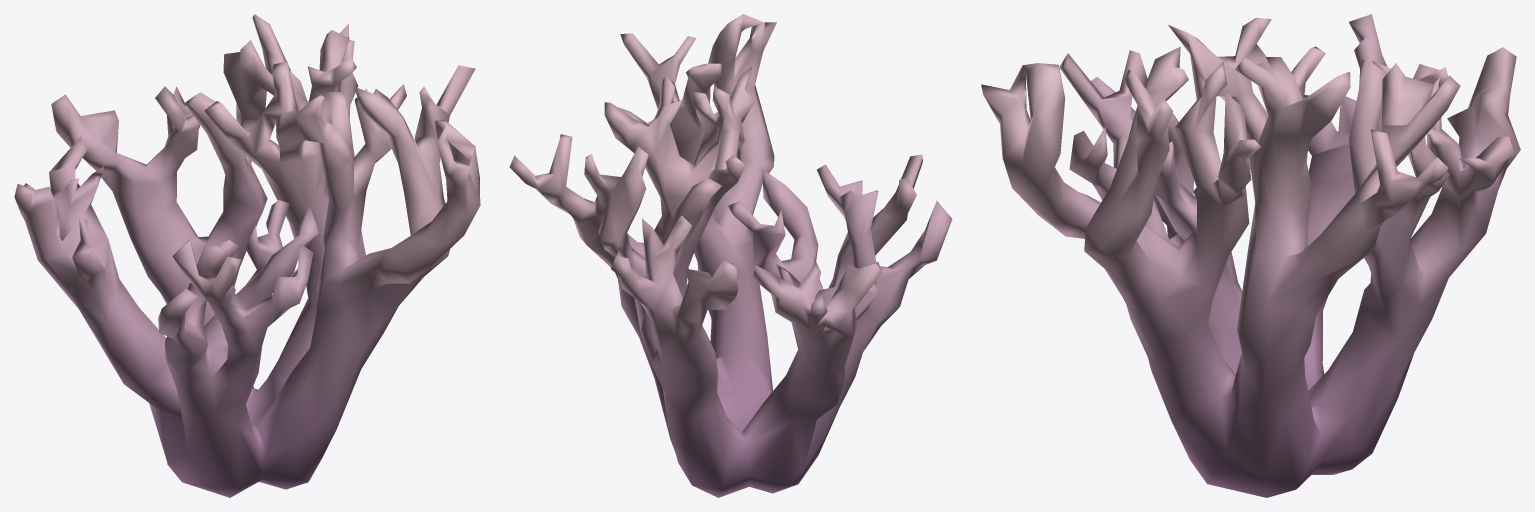
Rendered from staghorn_pink_low.glb.
The picture shows the model from 3 angles, left to right: view 1: azimuth 30°, elevation 25°; view 2: azimuth 150°, elevation 25°; view 3: azimuth 270°, elevation 25°; orthographic projection. The views are drawn at different scales.
Parts seen in each view (by area): view 1: world; view 2: world; view 3: world.
Part boxes in pixels (<box>): world: <box>14,14,480,497</box>; world: <box>509,14,952,497</box>; world: <box>981,14,1520,497</box>.
Size of the model in its own units: 1.08 by 1.14 by 1.17.
